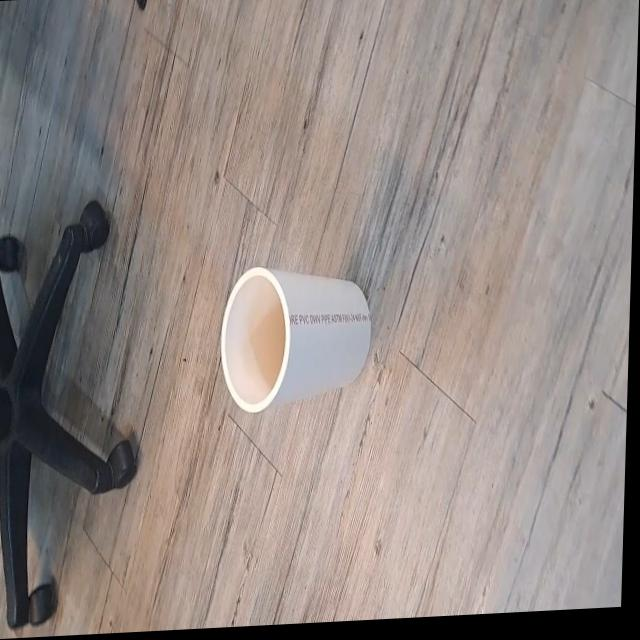CORAL: (216, 246, 379, 414)
